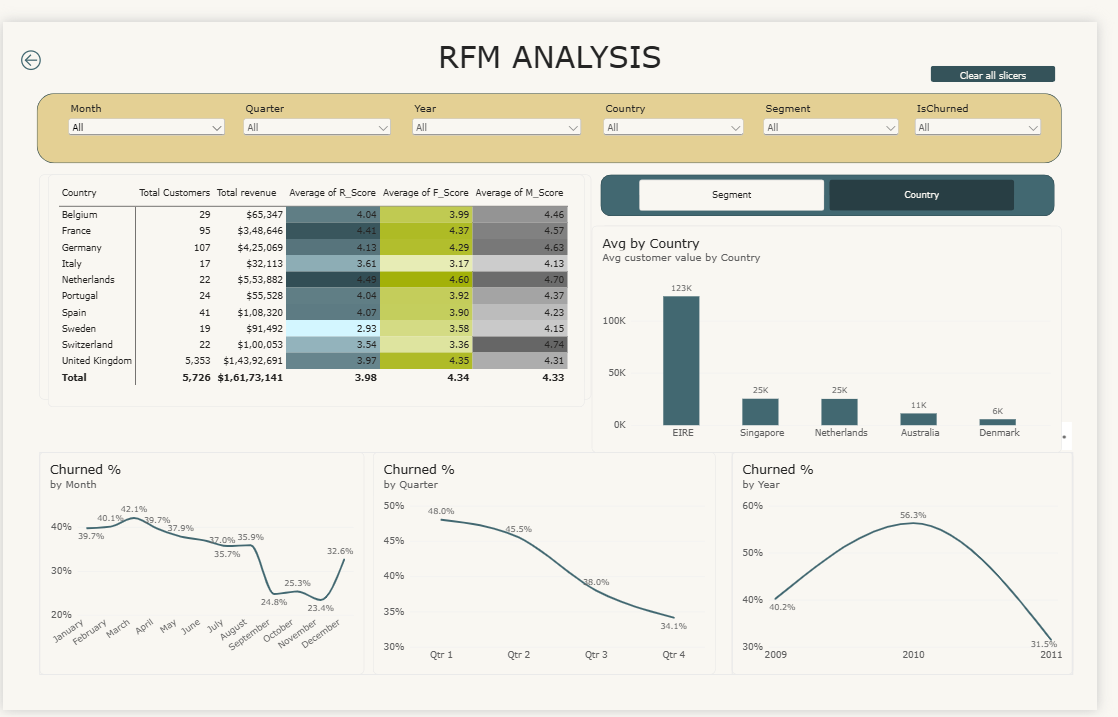

Layout of this report page (visuals, bound fields, positions):
{"tool":"powerbi","page":{"name":"RFM Analysis","canvas":[1750,1100],"ordinal":1},"visuals":[{"type":"shape","box":[54,114,1640,112],"z":0},{"type":"lineChart","fields":{"Category":["Sheet1.InvoiceDate.Variation.Date Hierarchy.Quarter"],"Y":["Sheet1.Churned %"]},"box":[592,688,548,356],"z":0,"group":"g1"},{"type":"shape","box":[956.7,243.3,726.7,66.7],"z":1000},{"type":"lineChart","fields":{"Category":["Sheet1.InvoiceDate.Variation.Date Hierarchy.Month"],"Y":["Sheet1.Churned %"]},"box":[58,688,520,356],"z":1000,"group":"g1"},{"type":"slicer","fields":{"Values":["Sheet1.InvoiceDate.Variation.Date Hierarchy.Quarter"]},"box":[380,128,246,84],"z":2000},{"type":"lineChart","fields":{"Category":["Sheet1.InvoiceDate.Variation.Date Hierarchy.Year"],"Y":["Sheet1.Churned %"]},"box":[1166,688,546,356],"z":2000,"group":"g1"},{"type":"slicer","fields":{"Values":["Sheet1.InvoiceDate.Variation.Date Hierarchy.Month"]},"box":[100,128,260,84],"z":3000},{"type":"slicer","fields":{"Values":["Sheet1.InvoiceDate.Variation.Date Hierarchy.Year"]},"box":[650,128,280,84],"z":4000},{"type":"slicer","fields":{"Values":["Sheet1.Country"]},"box":[956,128,234,84],"z":5000},{"type":"slicer","fields":{"Values":["Sheet1.Segment"]},"box":[1212,128,226,60],"z":6000},{"type":"slicer","fields":{"Values":["Sheet1.IsChurned"]},"box":[1454,128,212,60],"z":7000},{"type":"group","id":"g1","title":"Customer","box":[58,688,1654,356],"z":8000},{"type":"textbox","box":[352,26,1046,70],"z":11000},{"type":"actionButton","box":[1484,70,200,26],"z":12000},{"type":"actionButton","box":[0,26.2,90,70],"z":13000},{"type":"columnChart","fields":{"Category":["Sheet1.Segment"],"Y":["Sheet1.Avg customer value"]},"box":[956.7,325,726.7,320],"z":14000},{"type":"pivotTable","title":"Matrix by customers","fields":{"Rows":["Sheet1.Segment"],"Values":["Sheet1.Total Customers","Sheet1.Total revenue","Avg(Sheet1.R_Score)","Avg(Sheet1.F_Score)","Avg(Sheet1.M_Score)"]},"box":[58.3,243.3,883.3,360],"z":15000},{"type":"columnChart","title":"Avg  by Country","fields":{"Category":["Sheet1.Country"],"Y":["Sheet1.Avg customer value"]},"box":[941.7,325,751.7,363.3],"z":16000},{"type":"pivotTable","title":"Matrix by country","fields":{"Rows":["Sheet1.Country"],"Values":["Sheet1.Total Customers","Sheet1.Total revenue","Avg(Sheet1.R_Score)","Avg(Sheet1.F_Score)","Avg(Sheet1.M_Score)"]},"box":[71.7,243.3,858.3,371.7],"z":17000},{"type":"bookmarkNavigator","box":[1018.3,251.7,600,50],"z":17001}]}

Visuals, with their boxes in screenshot pixels (x1, y1, x2, y2), scaled from the page's 1750x1100 canvas onto the 1118x717 screenshot:
shape: BBox(34, 74, 1082, 147)
lineChart - Sheet1.InvoiceDate.Variation.Date Hierarchy.Quarter x Sheet1.Churned %: BBox(378, 448, 728, 680)
shape: BBox(611, 159, 1075, 202)
lineChart - Sheet1.InvoiceDate.Variation.Date Hierarchy.Month x Sheet1.Churned %: BBox(37, 448, 369, 680)
slicer - Sheet1.InvoiceDate.Variation.Date Hierarchy.Quarter: BBox(243, 83, 400, 138)
lineChart - Sheet1.InvoiceDate.Variation.Date Hierarchy.Year x Sheet1.Churned %: BBox(745, 448, 1094, 680)
slicer - Sheet1.InvoiceDate.Variation.Date Hierarchy.Month: BBox(64, 83, 230, 138)
slicer - Sheet1.InvoiceDate.Variation.Date Hierarchy.Year: BBox(415, 83, 594, 138)
slicer - Sheet1.Country: BBox(611, 83, 760, 138)
slicer - Sheet1.Segment: BBox(774, 83, 919, 123)
slicer - Sheet1.IsChurned: BBox(929, 83, 1064, 123)
"Customer" group: BBox(37, 448, 1094, 680)
textbox: BBox(225, 17, 893, 63)
actionButton: BBox(948, 46, 1076, 63)
actionButton: BBox(0, 17, 57, 63)
columnChart - Sheet1.Segment x Sheet1.Avg customer value: BBox(611, 212, 1075, 420)
"Matrix by customers" pivotTable: BBox(37, 159, 602, 393)
"Avg  by Country" columnChart: BBox(602, 212, 1082, 449)
"Matrix by country" pivotTable: BBox(46, 159, 594, 401)
bookmarkNavigator: BBox(651, 164, 1034, 197)
